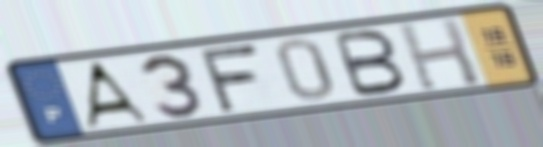0: (272, 36, 340, 104)
3: (135, 50, 207, 121)
A: (81, 59, 153, 130)
B: (330, 27, 410, 99)
F: (194, 41, 262, 115)
H: (393, 16, 486, 94)
